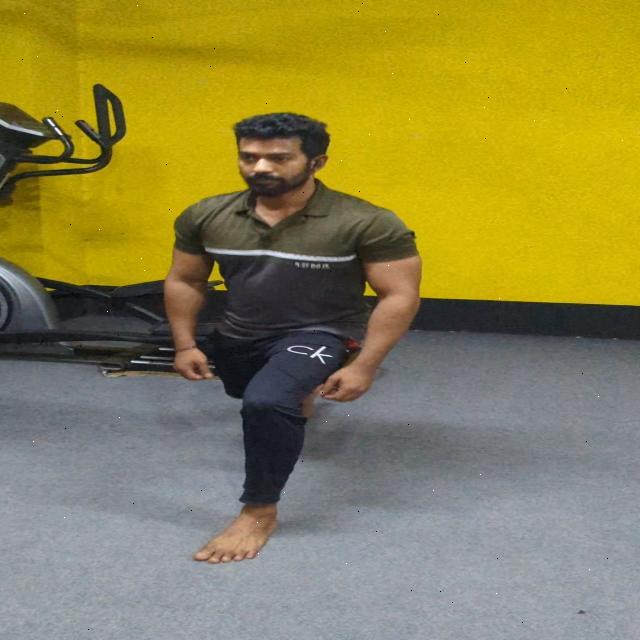Normal_Lunges: (0, 86, 620, 556)
